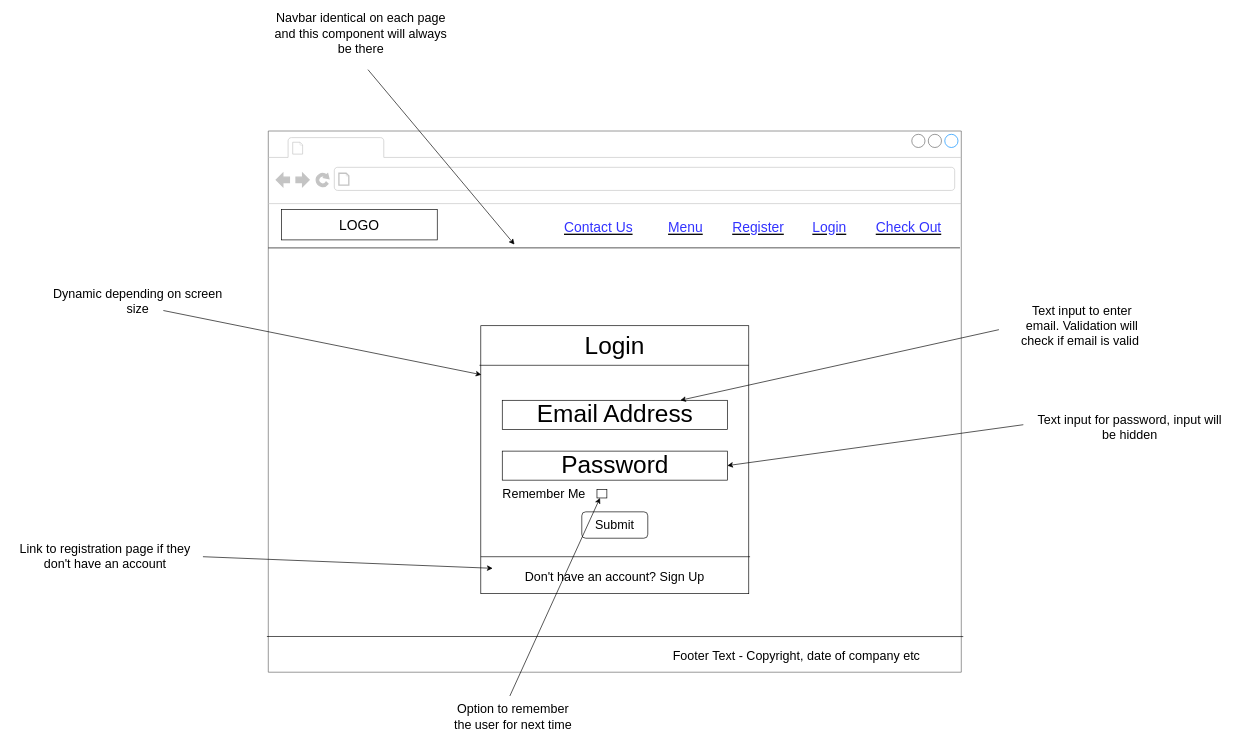
Some shapes in this 1241 by 743 pixel diagram are drawn without their labels. The centre of each missing label's shape, as x and y in pixels:
"localhost:4200/login" belongs at pixel 436 179.
"Page 1" belongs at pixel 343 147.
